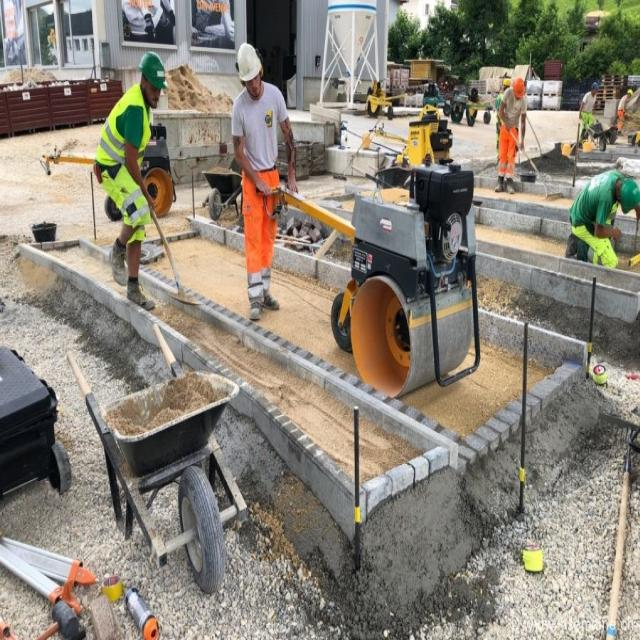secure person: (232, 43, 297, 314), (95, 52, 166, 263)
